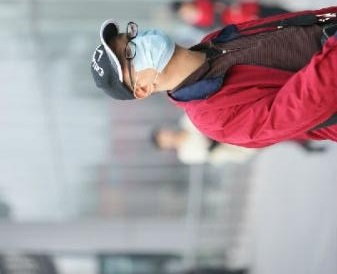person: (88, 16, 337, 147), (150, 113, 255, 164), (166, 1, 293, 33)
